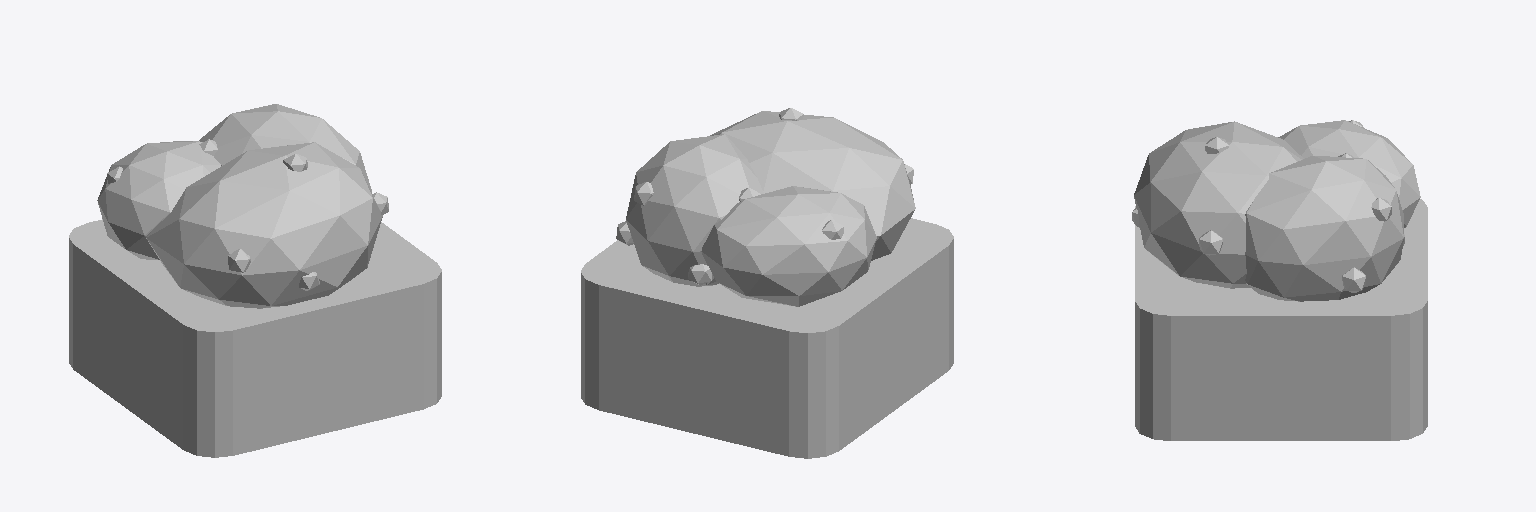
The model's file is tile_shrub.obj.
The picture shows the model from 3 angles: view 1: azimuth 30°, elevation 25°; view 2: azimuth 150°, elevation 25°; view 3: azimuth 270°, elevation 25°; orthographic projection.
Parts seen in each view (by area): view 1: Icosphere.006; view 2: Icosphere.006; view 3: Icosphere.006.
Part boxes in pixels (x1,y1,x2,y2): Icosphere.006: (69, 104, 441, 457); Icosphere.006: (581, 108, 953, 458); Icosphere.006: (1132, 120, 1427, 440).
Bounding box in the file's own units: 2 × 1.86 × 2.02.